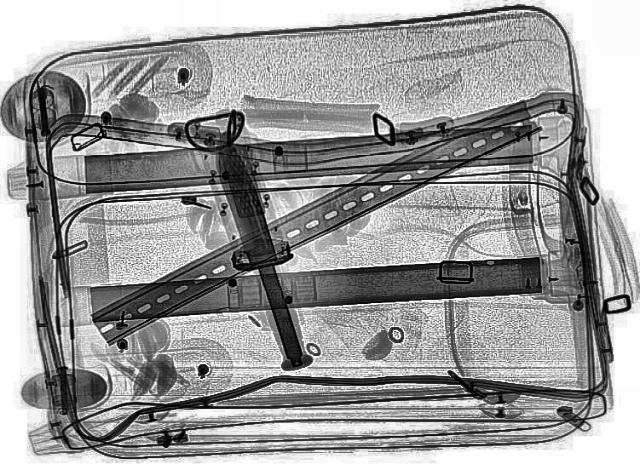Knife: (193, 132, 323, 363)
